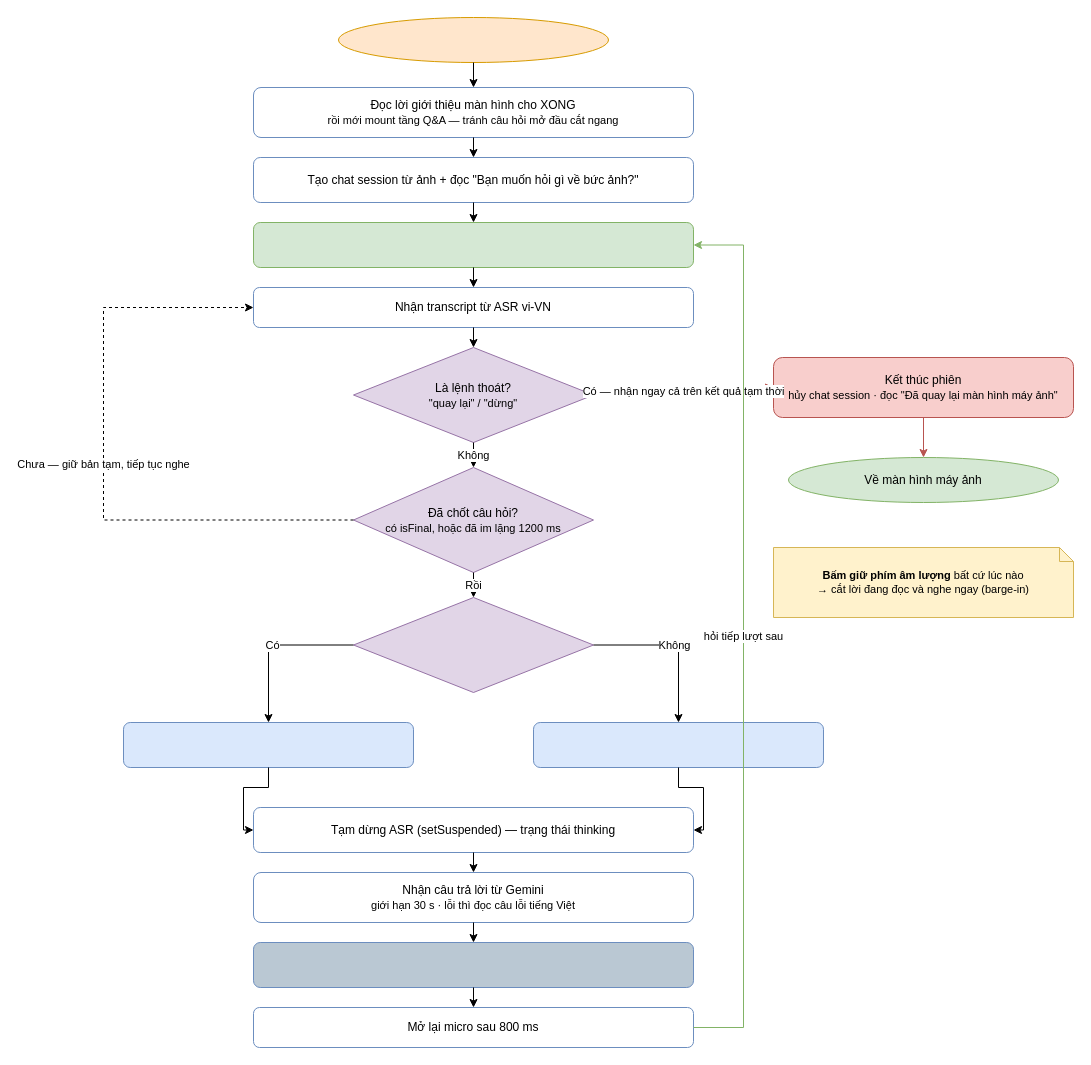
This 1091x1065 diagram has some shape labels left out. The shapes that lost their labels are listed below. From the top down, each one's box as (x1, y1, x2, y2) in pixels, then its label:
(338, 16, 608, 62): Mở màn hỏi đáp từ ảnh vừa mô tả
(252, 222, 694, 268): Bắt đầu nghe — âm hiệu bắt đầu nghe · trạng thái listening
(352, 596, 594, 692): Lượt đầu của phiên?
(122, 722, 414, 768): Gửi ảnh + câu hỏi
(532, 722, 824, 768): Chỉ gửi câu hỏi dạng văn bản
(252, 942, 694, 988): Đọc câu trả lời qua speakExclusive — trạng thái answering
